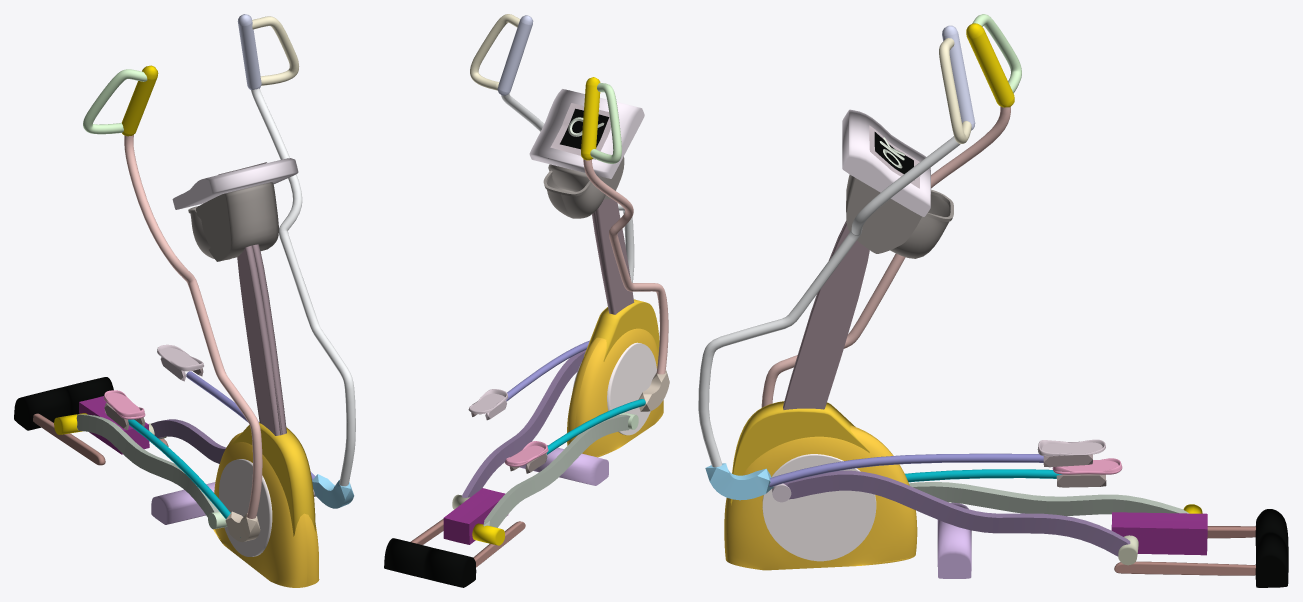
File: Elliptical-transformed.glb
3 views of the same model, side by side, from view 1: azimuth 30°, elevation 25°; view 2: azimuth 150°, elevation 25°; view 3: azimuth 270°, elevation 25° (orthographic). The views are drawn at different scales.
Visible parts, largest first — view 1: p0000.39488, p0008.60432; view 2: p0000.39488, p0008.60432; view 3: p0000.39488, p0008.60432.
Boxes of the visible parts, left/top/right/bottom form: p0000.39488: left=14, top=14, right=355, bottom=587; p0008.60432: left=33, top=413, right=168, bottom=465; p0000.39488: left=384, top=14, right=669, bottom=587; p0008.60432: left=410, top=518, right=525, bottom=567; p0000.39488: left=698, top=14, right=1288, bottom=587; p0008.60432: left=1114, top=526, right=1255, bottom=575.
Bounding box in the file's own units: 7.1 × 17.78 × 17.02.
2 materials, 2 textured.
